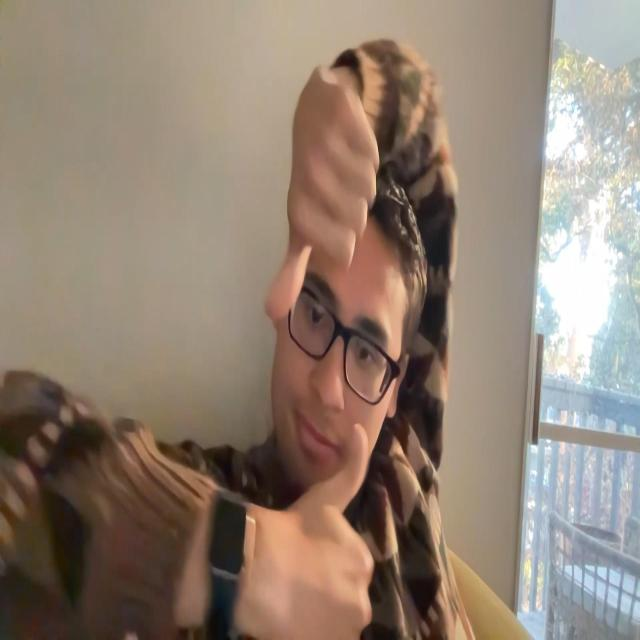face: (274, 235, 404, 500)
